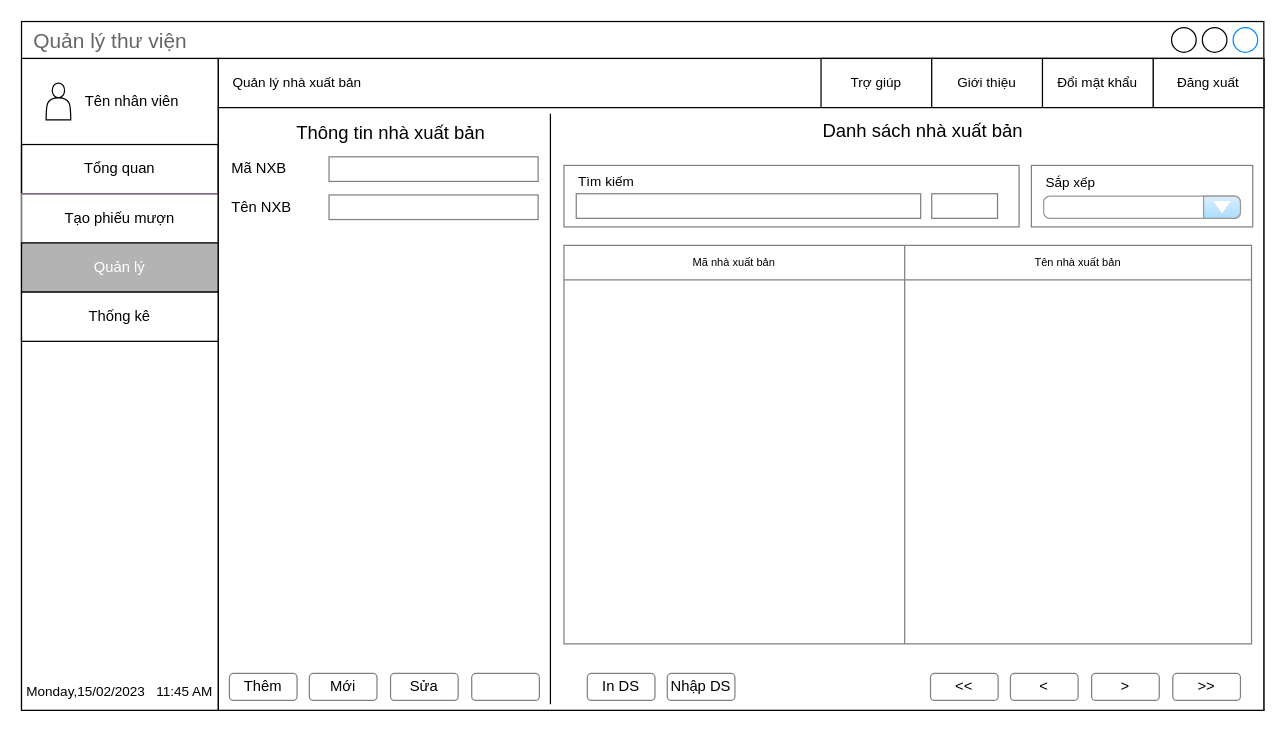
Some shapes in this 1285 by 732 pixel diagram are drawn without their labels. Each missing label, with the centre of its shape:
"Tìm" goes at [964,205].
"Tất cả" goes at [1141,206].
"Xóa" goes at [504,686].
